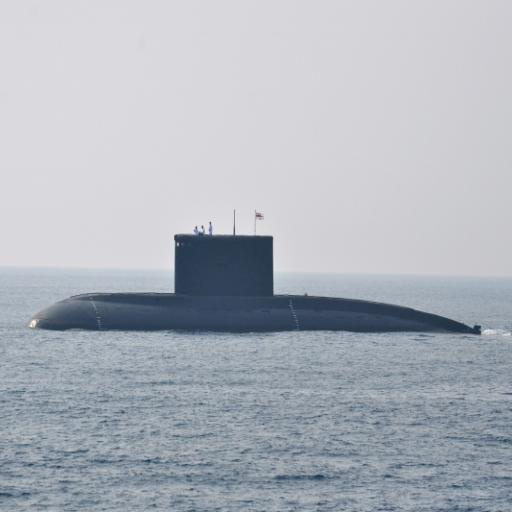submarine: (11, 223, 483, 337)
